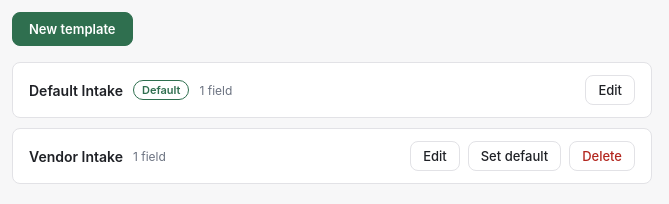
Test: TemplateManager › opens the editor when New template is clicked
Expected: the text "Default Intake" is shown, [29,82,123,98]
Step 1. Click the button "New template" → point(72, 29), box [12,12,132,46]
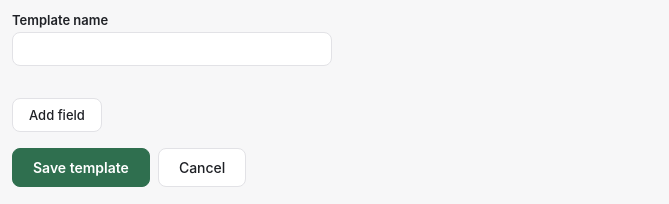
Expected: the field labelled "Template name" is shown, [12,32,332,66]
